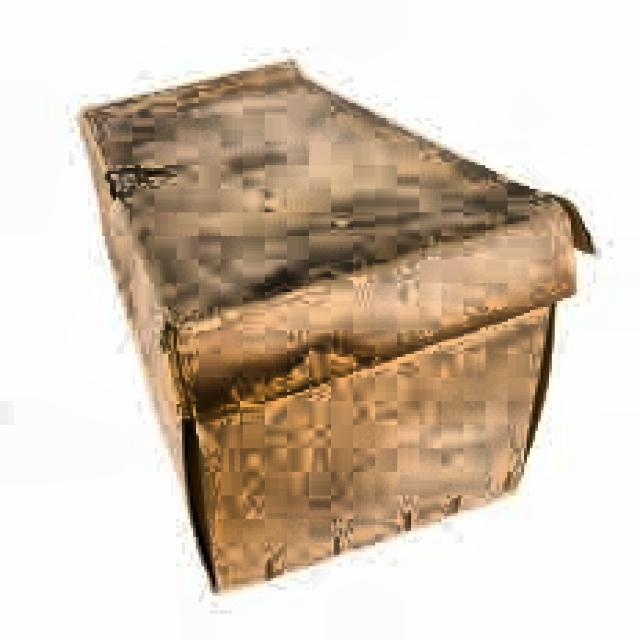Cardbox: (69, 27, 603, 592)
